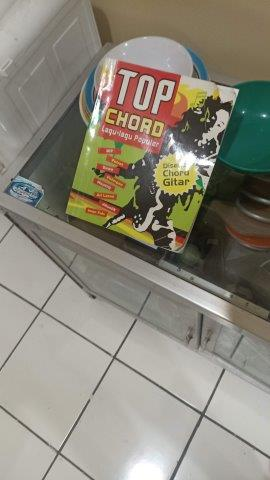kertas: (64, 57, 239, 256)
